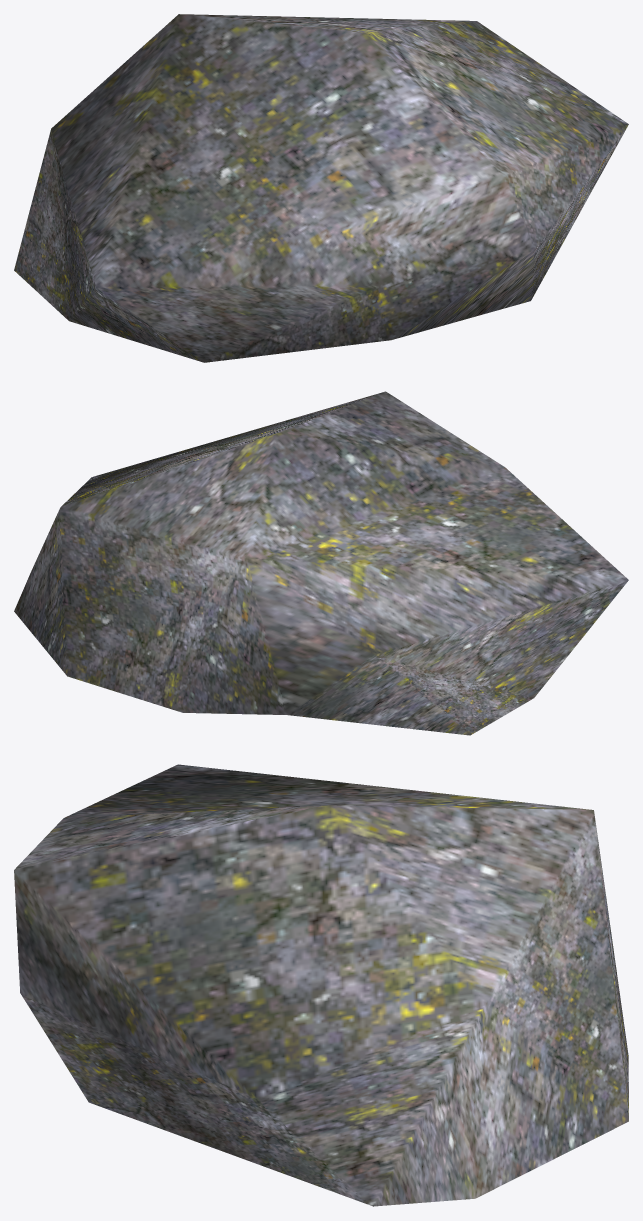
File: rock_weatheredmossy_medium_a3_l1.fbx
3 renders of one model, top to bottom at view 1: azimuth 30°, elevation 25°; view 2: azimuth 150°, elevation 25°; view 3: azimuth 270°, elevation 25°, orthographic. The views are drawn at different scales.
Parts seen in each view (by area): view 1: mesh_node; view 2: mesh_node; view 3: mesh_node.
Part boxes in pixels (x1,y1,x2,y2): mesh_node: (14, 14, 628, 362); mesh_node: (14, 391, 628, 735); mesh_node: (14, 764, 628, 1206).
Bounding box in the file's own units: 0.4361 × 0.1561 × 0.3257.
Materials: 1 (1 with a texture image).
